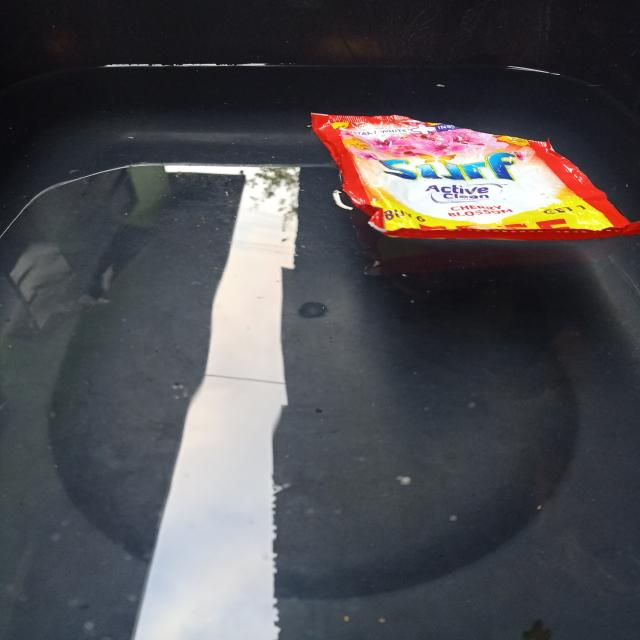Plastic Wrapper: (305, 98, 640, 259)
